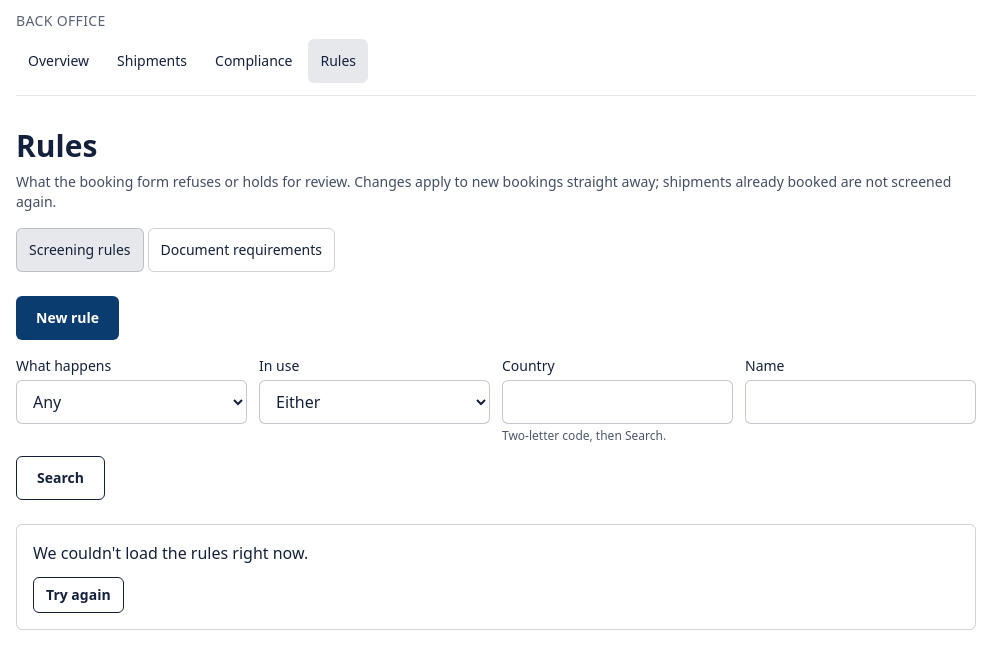
screening rules screen › says when there are none, and when it can't load
Click the button "Try again".
click(78, 595)  # box left=33, top=577, right=124, bottom=613
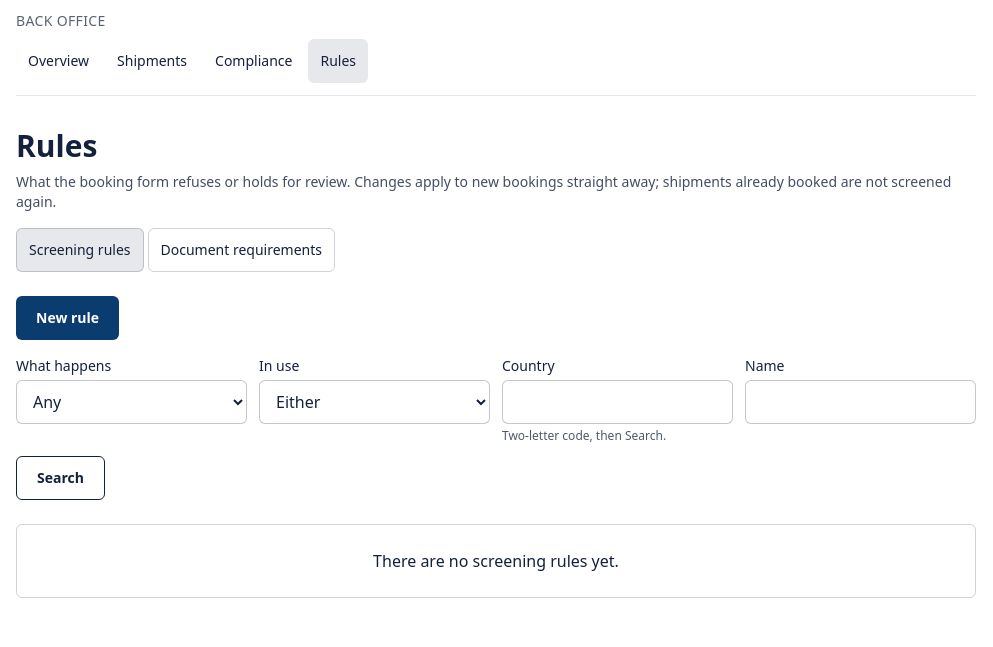
Check: the text "There are no screening rules yet." is shown, box left=16, top=524, right=976, bottom=598
